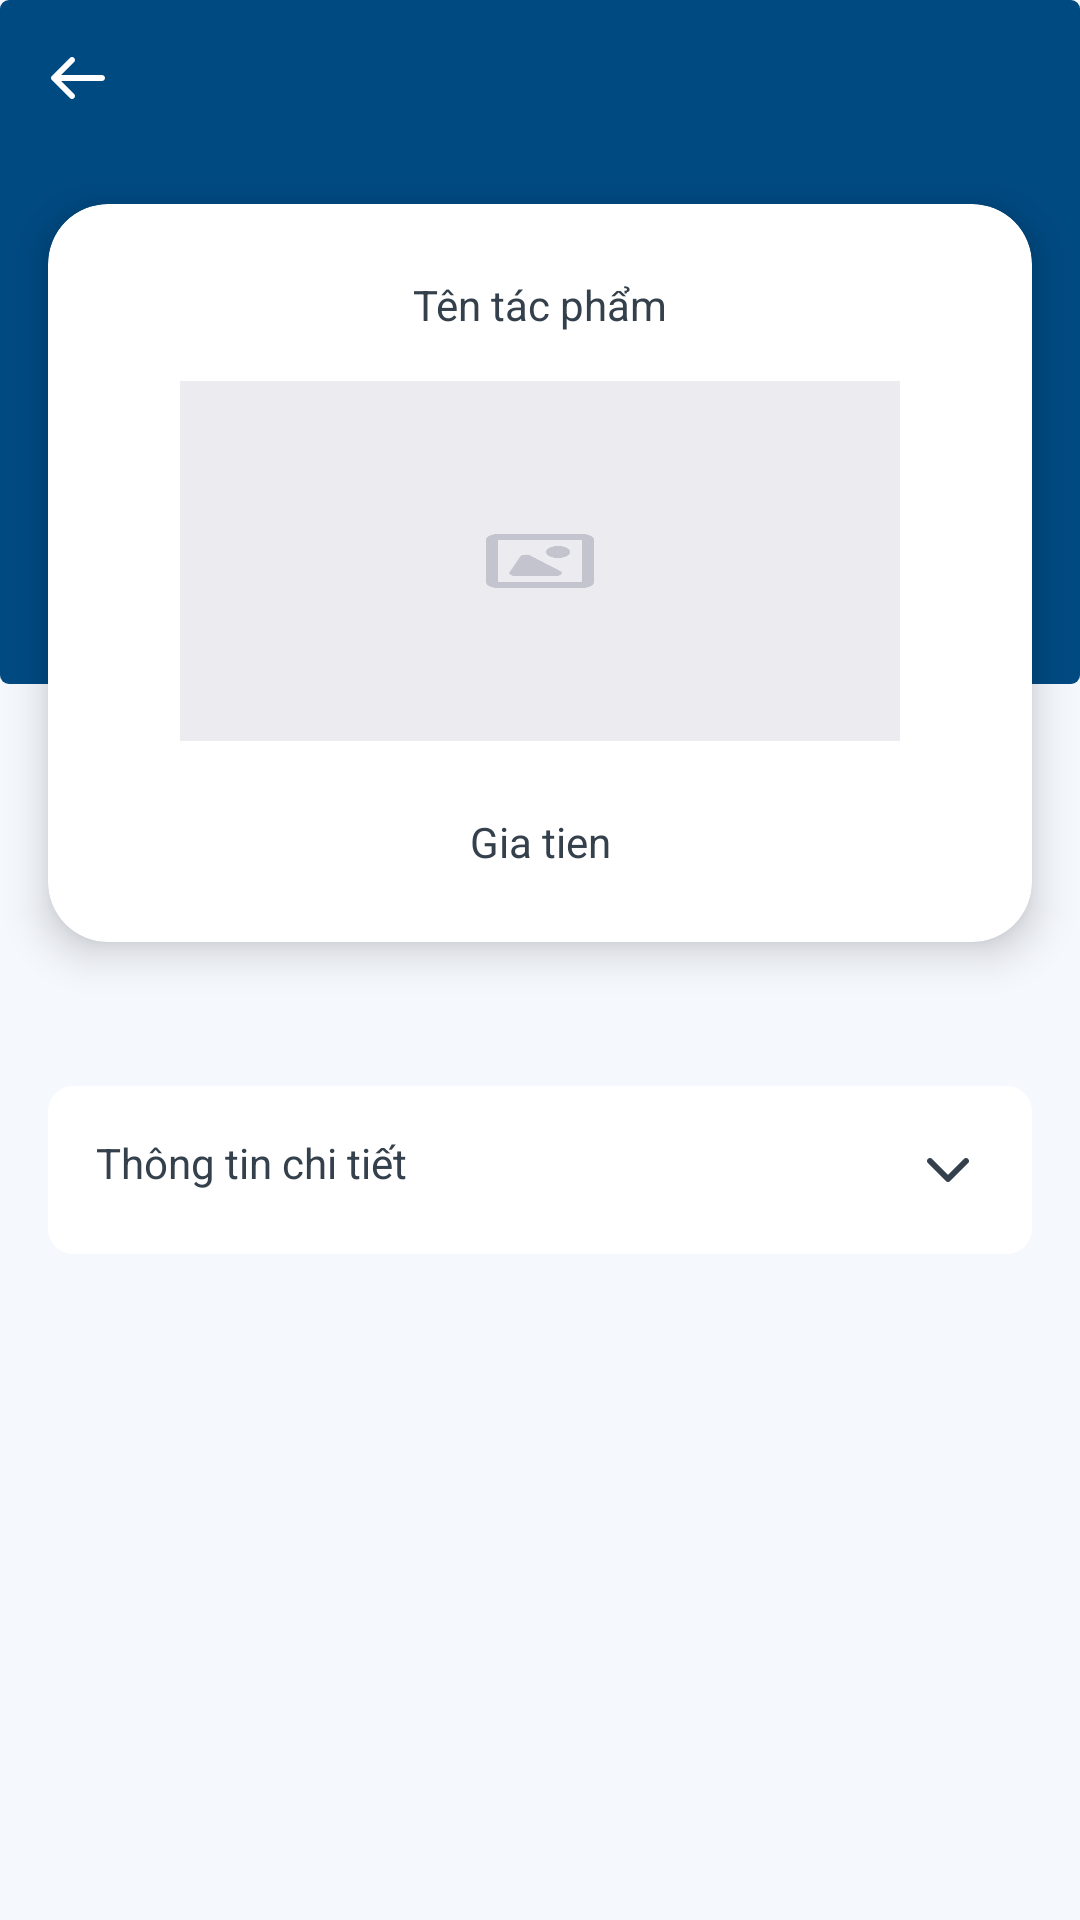

Where icons sit on this 1080px×1920px app screen, as rect(x1, y1, x2, y2):
chevron down: rect(927, 1158, 969, 1182)
uiv back: rect(51, 57, 105, 99)
